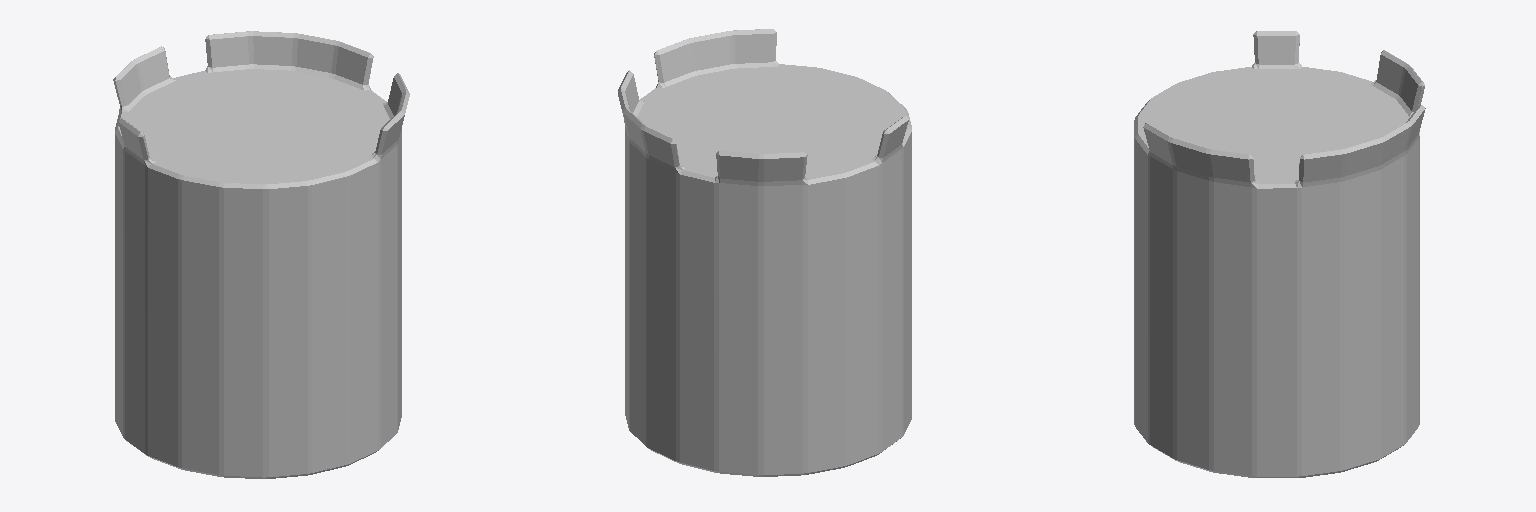
The model's file is Wood2.obj.
The picture shows the model from 3 angles: view 1: azimuth 30°, elevation 25°; view 2: azimuth 150°, elevation 25°; view 3: azimuth 270°, elevation 25°; orthographic projection.
Visible parts, largest first — view 1: Wood2; view 2: Wood2; view 3: Wood2.
Part boxes in pixels (x1,y1,x2,y2): Wood2: (113, 31, 409, 478); Wood2: (618, 29, 911, 476); Wood2: (1134, 31, 1425, 477).
Size of the model in its own units: 1.92 by 2.3 by 1.86.